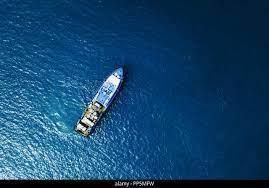Boat: (73, 66, 126, 138)
